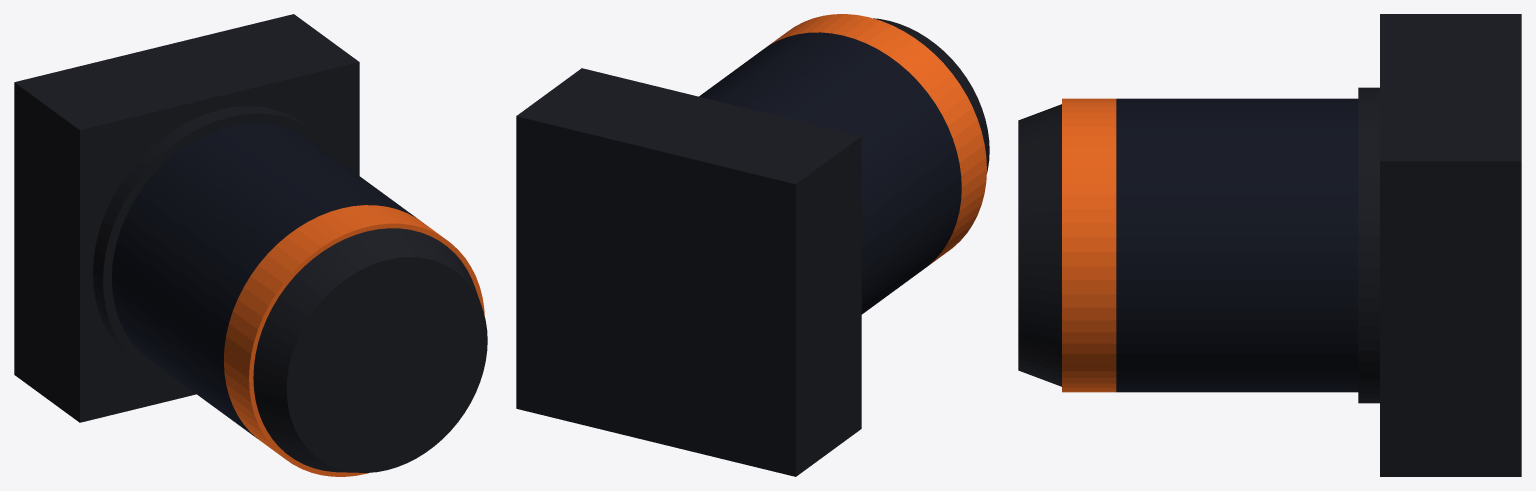
Rendered from roboracer_lidar.glb.
The picture shows the model from 3 angles, left to right: view 1: azimuth 30°, elevation 25°; view 2: azimuth 150°, elevation 25°; view 3: azimuth 270°, elevation 25°; orthographic projection. The views are drawn at different scales.
Bounding box in the file's own units: 0.064 × 0.064 × 0.0924.
